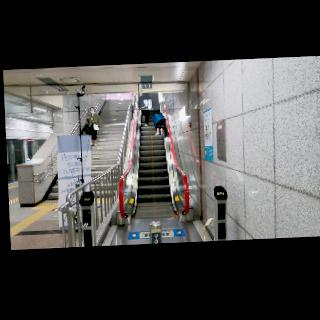normal: (83, 105, 103, 145), (136, 92, 152, 128), (152, 110, 169, 138)
